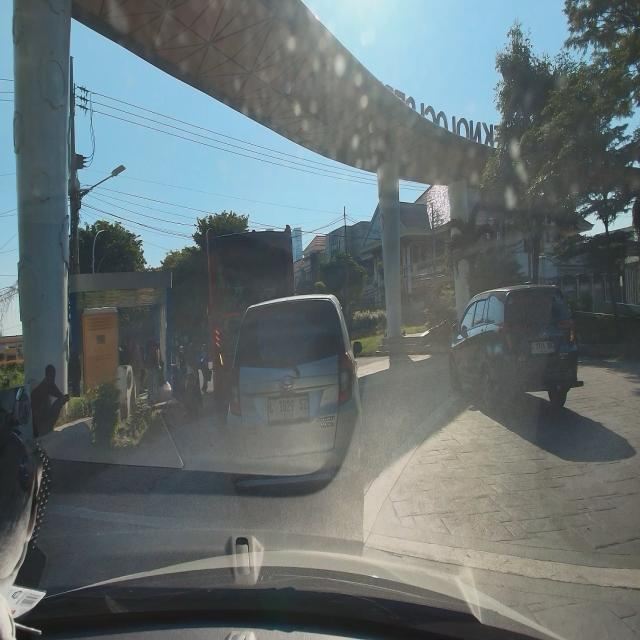car: (226, 295, 367, 503), (448, 279, 580, 415)
license-plate: (268, 397, 311, 423), (531, 340, 556, 356)
